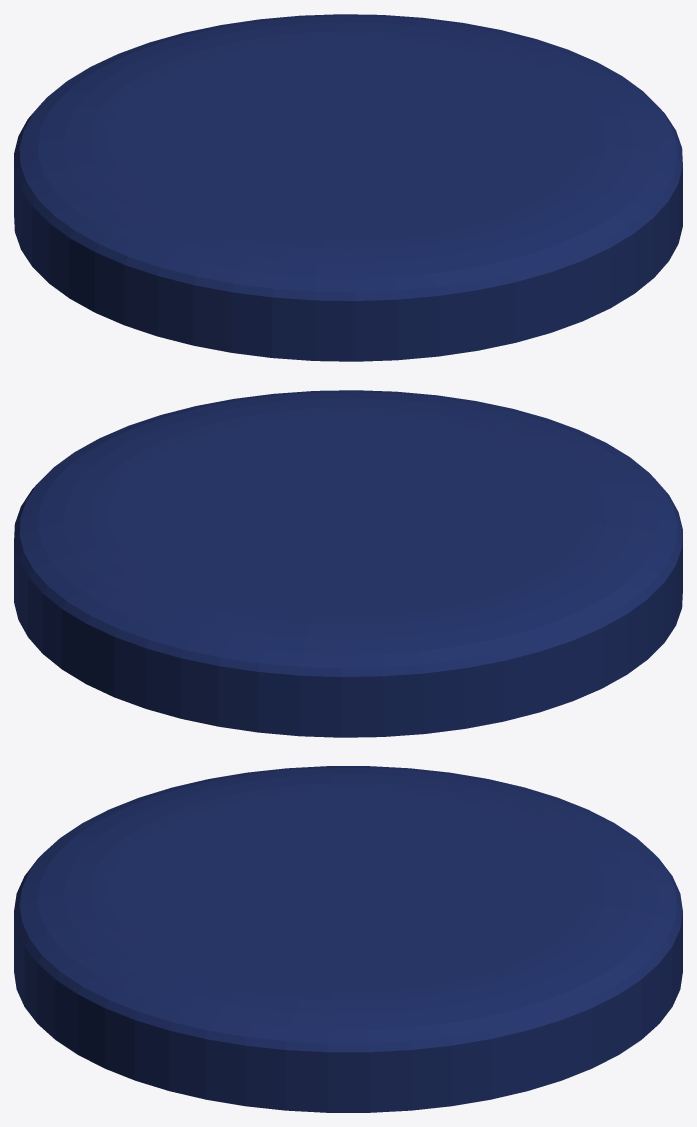
Rendered from goal_tile_b_triggered.glb.
3 renders of one model, top to bottom at view 1: azimuth 30°, elevation 25°; view 2: azimuth 150°, elevation 25°; view 3: azimuth 270°, elevation 25°, orthographic.
Parts seen in each view (by area): view 1: Cylinder; view 2: Cylinder; view 3: Cylinder.
Part boxes in pixels (box(x1,y1,x2,y2)): Cylinder: box(14, 14, 682, 361); Cylinder: box(14, 390, 682, 737); Cylinder: box(14, 766, 682, 1112).
Size of the model in its own units: 0.7485 by 0.1 by 0.75.
